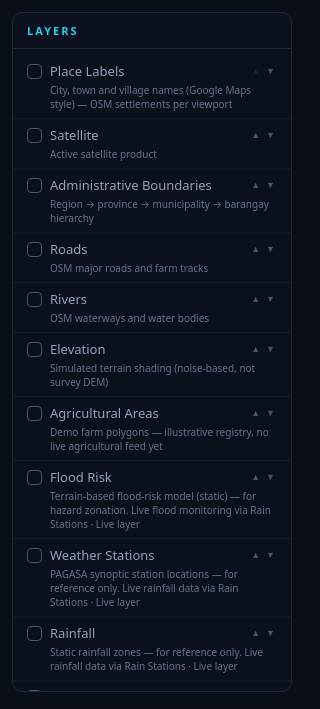
it: LayerPanel › setOpacity updates the visible percentage readout
Click the checkbox labelled "Place Labels" at point(76, 71), box [27,62,124,80]
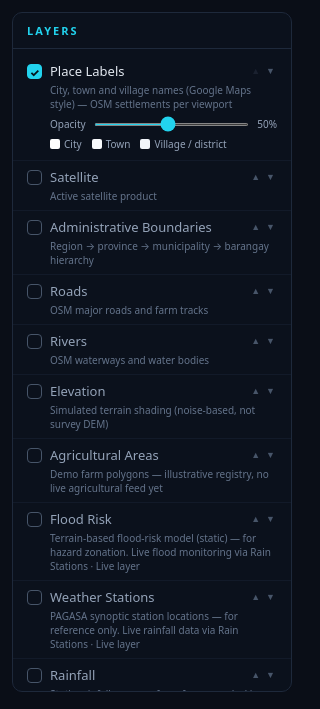
Expected: the slider holds "0.5", [94,122,249,126]
Expected: the text "50%" is shown, [257,117,277,131]
